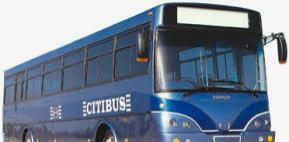bus: (5, 3, 286, 142)
